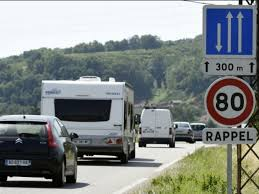Speed_limit_80km: (204, 77, 255, 126)
